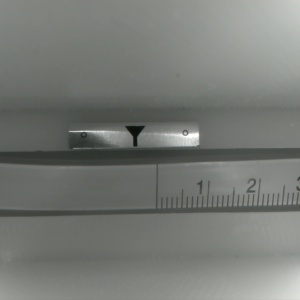1: (196, 179, 203, 194)
2: (246, 178, 256, 193)
3: (295, 176, 300, 192)
finger: (124, 126, 145, 145)
